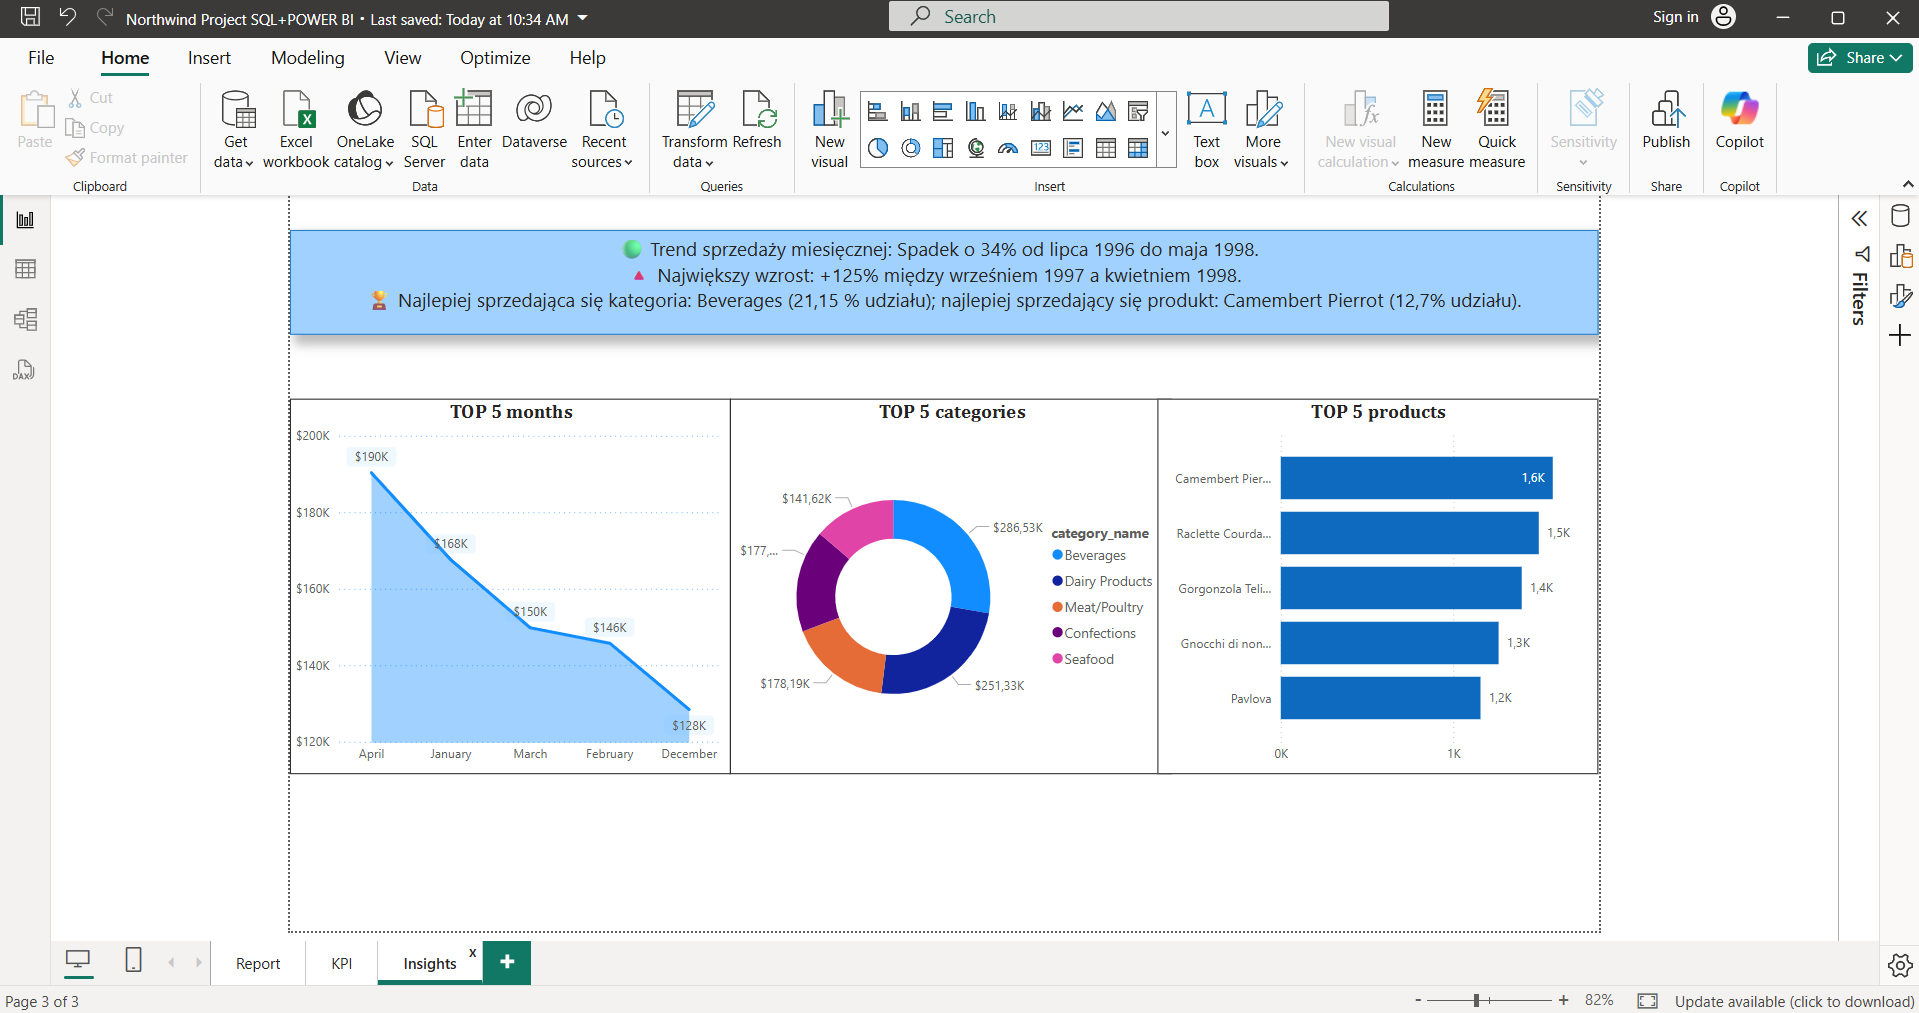

Layout of this report page (visuals, bound fields, positions):
{"tool":"powerbi","page":{"name":"Insights","canvas":[1280,720],"ordinal":2},"visuals":[{"type":"textbox","box":[0,34.1,1280,102.4],"z":0},{"type":"areaChart","title":"TOP 5 months","fields":{"Category":["MonthlyRevenueForInsights.sale_month_key.Variation.Date Hierarchy.Month"],"Y":["Sum(MonthlyRevenueForInsights.total_revenue)"]},"box":[0,199.1,430.9,366.9],"z":1000},{"type":"donutChart","title":"TOP 5 categories","fields":{"Category":["RevenueByCategory.category_name"],"Y":["Sum(RevenueByCategory.total_revenue)"]},"box":[430.9,199.1,432.4,366.9],"z":2000},{"type":"barChart","title":"TOP 5 products","fields":{"Category":["TopProducts.product_name"],"Y":["Sum(TopProducts.total_units_sold)"]},"box":[849.1,199.1,430.9,366.9],"z":2001}]}

Visuals, with their boxes on the page's 1280x720 design canvas (x1, y1, x2, y2). These are canvas units, not pixel positions in the 1919x1013 screenshot, which may show the page scaled, cropped or inside an application window:
textbox: rect(0, 34, 1280, 136)
"TOP 5 months" areaChart: rect(0, 199, 431, 566)
"TOP 5 categories" donutChart: rect(431, 199, 863, 566)
"TOP 5 products" barChart: rect(849, 199, 1280, 566)
